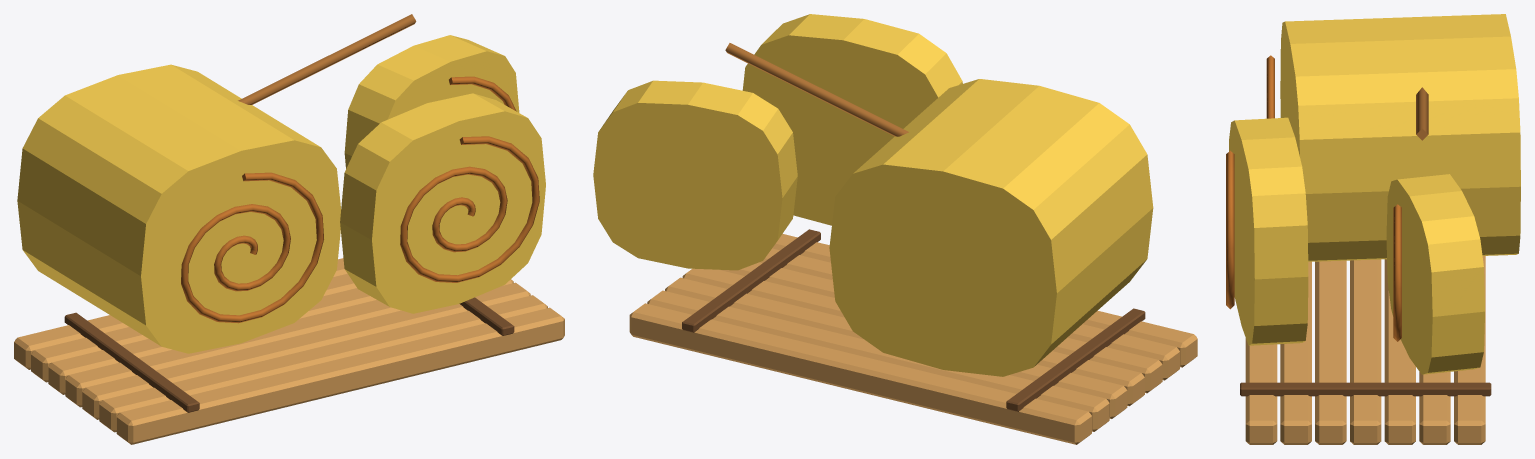
File: moa_tamagoyaki.obj
3 views of the same model, side by side, from view 1: azimuth 30°, elevation 25°; view 2: azimuth 150°, elevation 25°; view 3: azimuth 270°, elevation 25° (orthographic). The views are drawn at different scales.
Visible parts, largest first — view 1: A_RolledOmelette.001_moa_tamagoyaki_egg, B_CutSlice1.001_moa_tamagoyaki_egg, TraySlat0.001_moa_tamagoyaki_bamboo, B_CutSlice2.001_moa_tamagoyaki_egg, TraySlat1.001_moa_tamagoyaki_bamboo, TraySlat2.001_moa_tamagoyaki_bamboo, C_RollLayers0.001_moa_tamagoyaki_browned_layer, C_RollLayers1.001_moa_tamagoyaki_browned_layer, TraySlat3.001_moa_tamagoyaki_bamboo, TraySlat4.001_moa_tamagoyaki_bamboo, TrayTie-1.001_moa_tamagoyaki_bamboo_knots, TraySlat5.001_moa_tamagoyaki_bamboo (+4 smaller); view 2: A_RolledOmelette.001_moa_tamagoyaki_egg, B_CutSlice2.001_moa_tamagoyaki_egg, B_CutSlice1.001_moa_tamagoyaki_egg, TraySlat6.001_moa_tamagoyaki_bamboo, TraySlat5.001_moa_tamagoyaki_bamboo, TraySlat4.001_moa_tamagoyaki_bamboo, TraySlat3.001_moa_tamagoyaki_bamboo, TraySlat2.001_moa_tamagoyaki_bamboo, TraySlat1.001_moa_tamagoyaki_bamboo, TrayTie-1.001_moa_tamagoyaki_bamboo_knots, TrayTie1.001_moa_tamagoyaki_bamboo_knots, TraySlat0.001_moa_tamagoyaki_bamboo (+1 smaller); view 3: A_RolledOmelette.001_moa_tamagoyaki_egg, B_CutSlice2.001_moa_tamagoyaki_egg, B_CutSlice1.001_moa_tamagoyaki_egg, TraySlat3.001_moa_tamagoyaki_bamboo, TraySlat2.001_moa_tamagoyaki_bamboo, TrayTie1.001_moa_tamagoyaki_bamboo_knots, TraySlat4.001_moa_tamagoyaki_bamboo, TraySlat1.001_moa_tamagoyaki_bamboo, TraySlat0.001_moa_tamagoyaki_bamboo, TraySlat6.001_moa_tamagoyaki_bamboo, TraySlat5.001_moa_tamagoyaki_bamboo, C_RollLayers1.001_moa_tamagoyaki_browned_layer (+3 smaller).
Part boxes in pixels (x1,y1,x2,y2): A_RolledOmelette.001_moa_tamagoyaki_egg: (17,64,341,353); B_CutSlice1.001_moa_tamagoyaki_egg: (340,93,545,313); TraySlat0.001_moa_tamagoyaki_bamboo: (116,307,564,444); B_CutSlice2.001_moa_tamagoyaki_egg: (344,35,519,168); TraySlat1.001_moa_tamagoyaki_bamboo: (99,295,547,432); TraySlat2.001_moa_tamagoyaki_bamboo: (82,282,530,419); C_RollLayers0.001_moa_tamagoyaki_browned_layer: (181,172,323,323); C_RollLayers1.001_moa_tamagoyaki_browned_layer: (400,136,539,282); TraySlat3.001_moa_tamagoyaki_bamboo: (65,279,513,407); TraySlat4.001_moa_tamagoyaki_bamboo: (48,288,376,394); TrayTie-1.001_moa_tamagoyaki_bamboo_knots: (64,312,199,412); TraySlat5.001_moa_tamagoyaki_bamboo: (31,273,356,382); A_RolledOmelette.001_moa_tamagoyaki_egg: (829,79,1153,376); B_CutSlice2.001_moa_tamagoyaki_egg: (593,80,797,270); B_CutSlice1.001_moa_tamagoyaki_egg: (742,14,962,225); TraySlat6.001_moa_tamagoyaki_bamboo: (629,303,1091,444); TraySlat5.001_moa_tamagoyaki_bamboo: (647,290,1109,431); TraySlat4.001_moa_tamagoyaki_bamboo: (665,277,1127,418); TraySlat3.001_moa_tamagoyaki_bamboo: (682,268,1144,406); TraySlat2.001_moa_tamagoyaki_bamboo: (719,262,1162,393); TraySlat1.001_moa_tamagoyaki_bamboo: (759,248,1179,380); TrayTie-1.001_moa_tamagoyaki_bamboo_knots: (1006,308,1145,411); TrayTie1.001_moa_tamagoyaki_bamboo_knots: (682,229,820,332); TraySlat0.001_moa_tamagoyaki_bamboo: (772,234,1197,367); A_RolledOmelette.001_moa_tamagoyaki_egg: (1280,14,1520,261); B_CutSlice2.001_moa_tamagoyaki_egg: (1386,174,1484,374); B_CutSlice1.001_moa_tamagoyaki_egg: (1229,117,1308,345); TraySlat3.001_moa_tamagoyaki_bamboo: (1350,259,1381,444); TraySlat2.001_moa_tamagoyaki_bamboo: (1315,260,1346,444); TrayTie1.001_moa_tamagoyaki_bamboo_knots: (1240,382,1491,396); TraySlat4.001_moa_tamagoyaki_bamboo: (1384,259,1415,444); TraySlat1.001_moa_tamagoyaki_bamboo: (1280,261,1311,444); TraySlat0.001_moa_tamagoyaki_bamboo: (1245,338,1277,444); TraySlat6.001_moa_tamagoyaki_bamboo: (1454,256,1485,444); TraySlat5.001_moa_tamagoyaki_bamboo: (1419,372,1450,444); C_RollLayers1.001_moa_tamagoyaki_browned_layer: (1226,150,1234,309).
Size of the model in its own units: 2.09 by 1.16 by 1.09.
